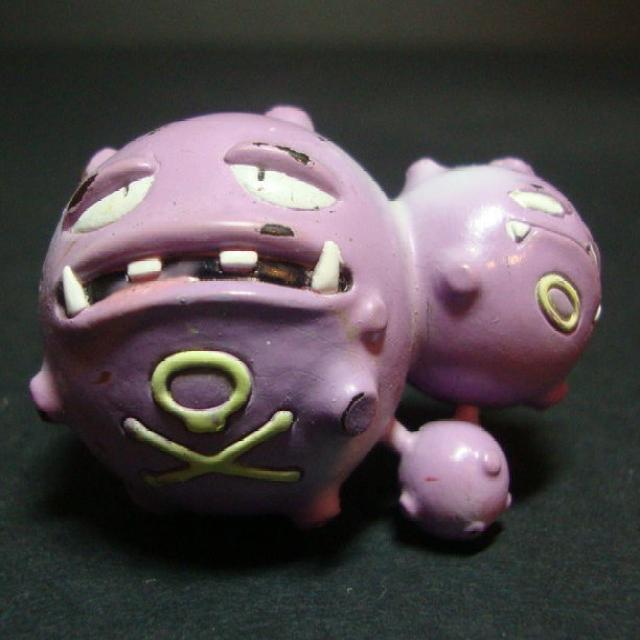Weezing: (36, 104, 604, 561)
